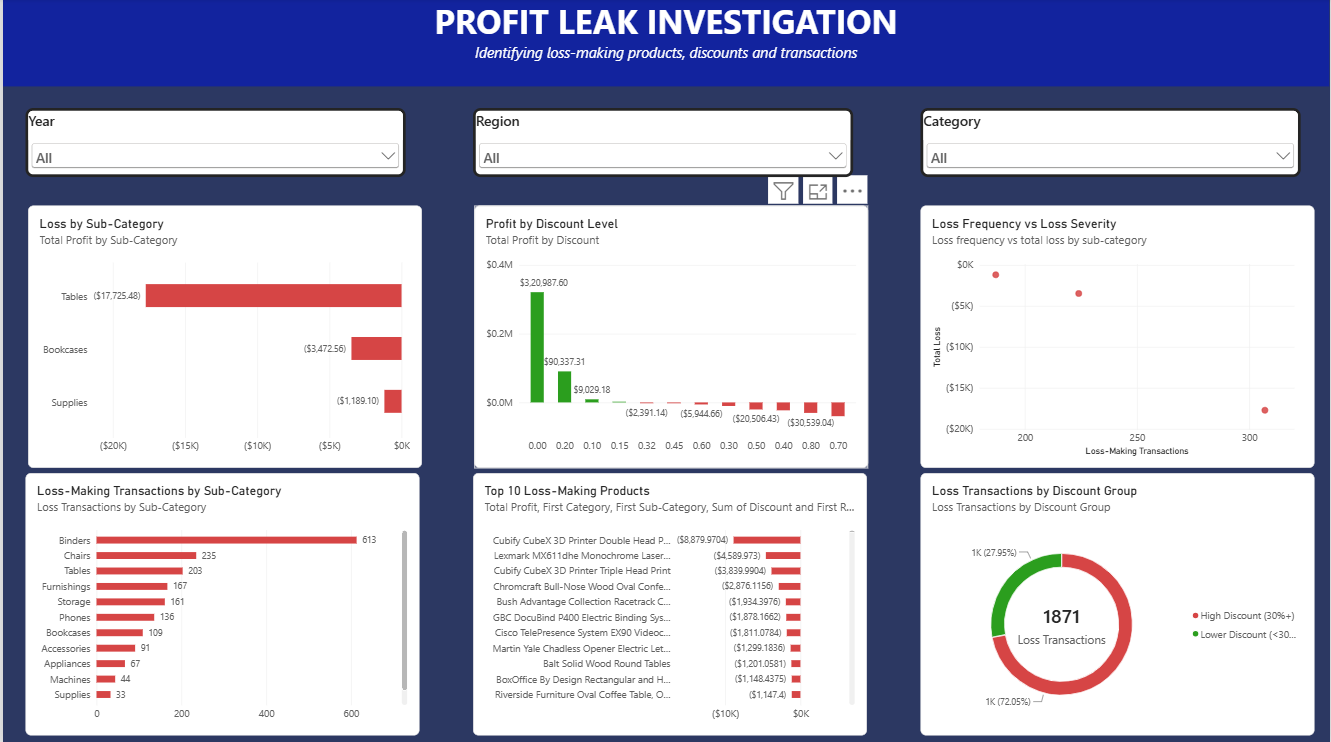

The dashboard page shown, as its layout file describes it:
{"tool":"powerbi","page":{"name":"Profit Leak Investigation","canvas":[1920,1080],"ordinal":1},"visuals":[{"type":"textbox","box":[0,0,1920,128],"z":0},{"type":"clusteredBarChart","title":"Loss by Sub-Category","fields":{"Category":["superstore_cleaned.Sub-Category"],"Y":["superstore_cleaned.Total Profit"]},"box":[36,300,570,380],"z":1000},{"type":"clusteredColumnChart","title":"Profit by Discount Level","fields":{"Category":["superstore_cleaned.Discount"],"Y":["superstore_cleaned.Total Profit"]},"box":[682,300,570,380],"z":2000},{"type":"clusteredBarChart","title":"Loss-Making Transactions by Sub-Category","fields":{"Category":["superstore_cleaned.Sub-Category"],"Y":["superstore_cleaned.Loss Transactions"]},"box":[33,688,570,380],"z":3000},{"type":"clusteredBarChart","title":"Top 10 Loss-Making Products","fields":{"Category":["superstore_cleaned.Product Name"],"Y":["superstore_cleaned.Total Profit"]},"box":[680.5,688,570,380],"z":4000},{"type":"scatterChart","title":"Loss Frequency vs Loss Severity","fields":{"Category":["superstore_cleaned.Sub-Category"],"X":["superstore_cleaned.Total Orders"],"Y":["superstore_cleaned.Total Profit"]},"box":[1328,300,570,380],"z":5000},{"type":"donutChart","title":"Loss Transactions by Discount Group","fields":{"Category":["superstore_cleaned.Discount Group","superstore_cleaned.Discount"],"Y":["superstore_cleaned.Loss Transactions"]},"box":[1328,688,570,380],"z":6000},{"type":"slicer","title":"Year","fields":{"Values":["superstore_cleaned.Order Date.Variation.Date Hierarchy.Year"]},"box":[32,160,550,100],"z":7000},{"type":"slicer","title":"Region","fields":{"Values":["superstore_cleaned.Region"]},"box":[680,160,550,100],"z":8000},{"type":"slicer","title":"Category","fields":{"Values":["superstore_cleaned.Category"]},"box":[1328,160,550,100],"z":9000}]}

Visuals, with their boxes in screenshot pixels (x1, y1, x2, y2), scaled from the page's 1920x1080 canvas onto the 1331x742 screenshot:
textbox: left=0, top=0, right=1330, bottom=88
"Loss by Sub-Category" clusteredBarChart: left=25, top=206, right=420, bottom=467
"Profit by Discount Level" clusteredColumnChart: left=473, top=206, right=868, bottom=467
"Loss-Making Transactions by Sub-Category" clusteredBarChart: left=23, top=473, right=418, bottom=734
"Top 10 Loss-Making Products" clusteredBarChart: left=472, top=473, right=867, bottom=734
"Loss Frequency vs Loss Severity" scatterChart: left=921, top=206, right=1316, bottom=467
"Loss Transactions by Discount Group" donutChart: left=921, top=473, right=1316, bottom=734
"Year" slicer: left=22, top=110, right=403, bottom=179
"Region" slicer: left=471, top=110, right=853, bottom=179
"Category" slicer: left=921, top=110, right=1302, bottom=179
